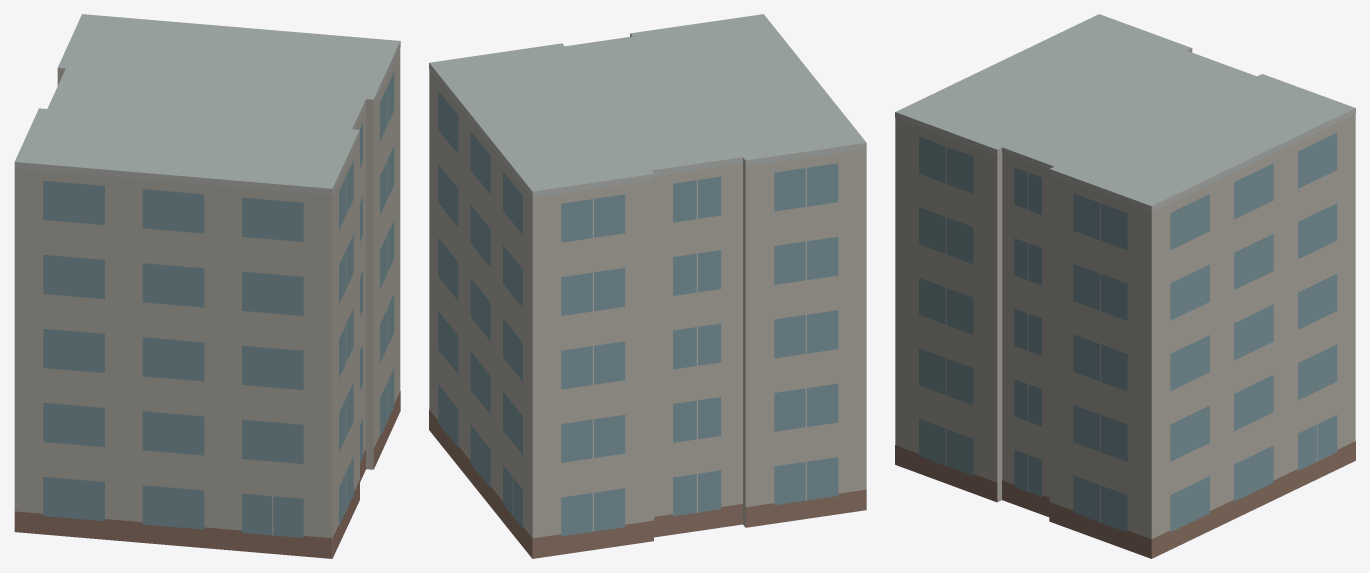
The model's file is survey-upis-32924878.glb.
3 renders of one model, left to right at view 1: azimuth 30°, elevation 25°; view 2: azimuth 150°, elevation 25°; view 3: azimuth 270°, elevation 25°, orthographic. The views are drawn at different scales.
Parts seen in each view (by area): view 1: survey-upis-32924878.tmp; view 2: survey-upis-32924878.tmp; view 3: survey-upis-32924878.tmp.
Part boxes in pixels (<box>): survey-upis-32924878.tmp: <box>14,14,400,558</box>; survey-upis-32924878.tmp: <box>429,14,866,558</box>; survey-upis-32924878.tmp: <box>895,14,1355,558</box>.
Size of the model in its own units: 16.49 by 14.1 by 16.7.
